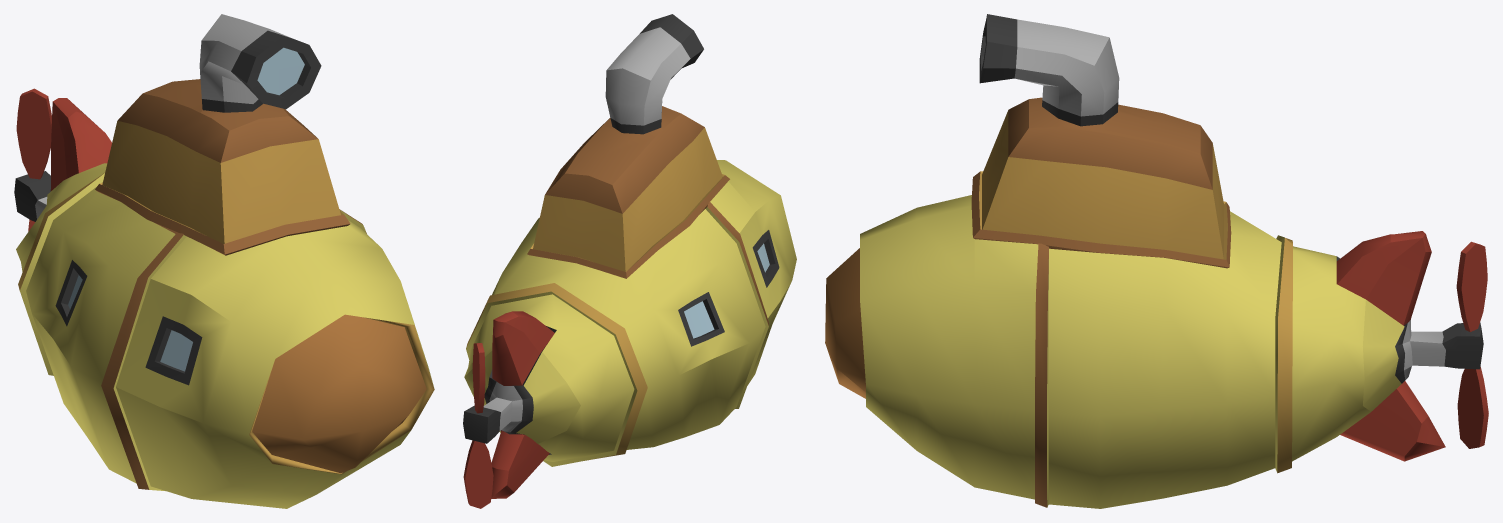
The model's file is Submarine.fbx.
3 renders of one model, left to right at view 1: azimuth 30°, elevation 25°; view 2: azimuth 150°, elevation 25°; view 3: azimuth 270°, elevation 25°, orthographic. The views are drawn at different scales.
Visible parts, largest first — view 1: Submarine; view 2: Submarine; view 3: Submarine.
Boxes of the visible parts, bbox=[...] form: Submarine: bbox=[14, 14, 434, 508]; Submarine: bbox=[463, 14, 796, 508]; Submarine: bbox=[825, 14, 1488, 508].
Bounding box in the file's own units: 236 × 356 × 451.
